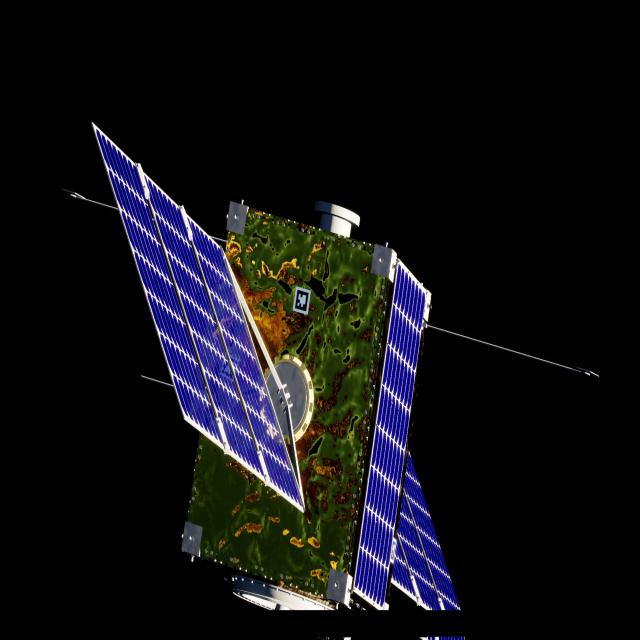satellite: (93, 128, 460, 615)
